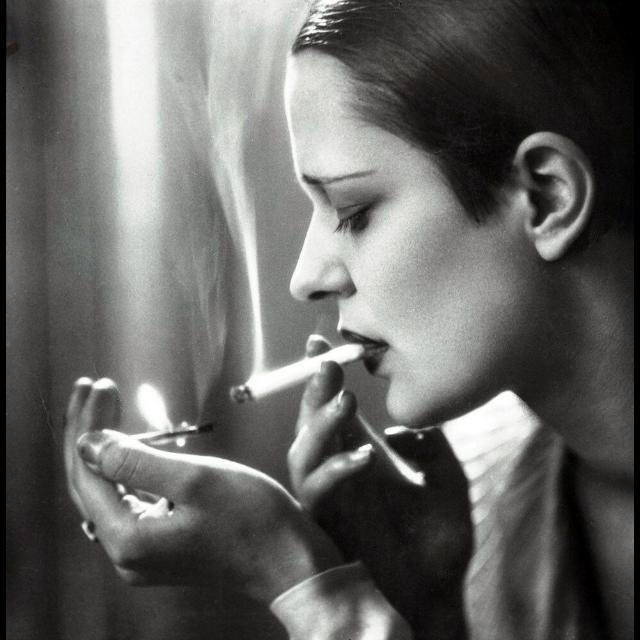rokok: (226, 335, 374, 401)
